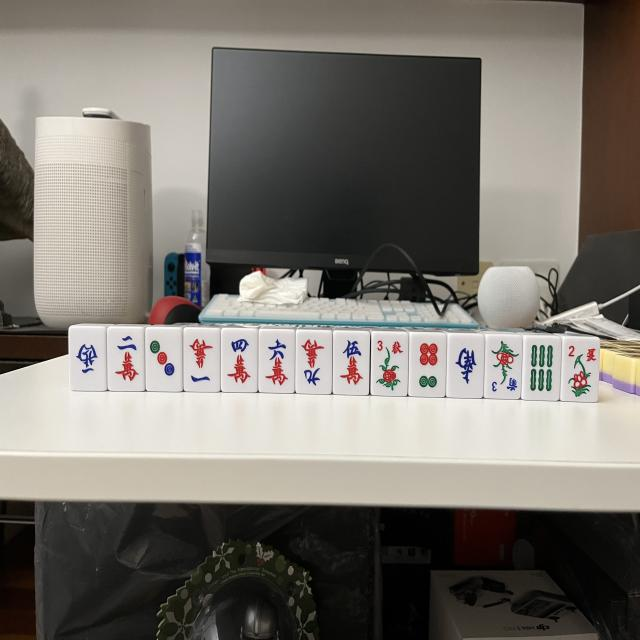f3: (486, 334, 526, 397)
ff2: (561, 337, 601, 403)
ff3: (370, 331, 409, 396)
m1: (182, 327, 220, 390)
m2: (108, 327, 147, 391)
m4: (222, 329, 260, 393)
m5: (333, 330, 370, 394)
m6: (259, 329, 296, 394)
m9: (296, 330, 334, 393)
s6: (523, 335, 562, 401)
south: (447, 334, 485, 398)
t3: (145, 327, 183, 392)
t6: (408, 332, 448, 395)
west: (68, 326, 108, 392)
